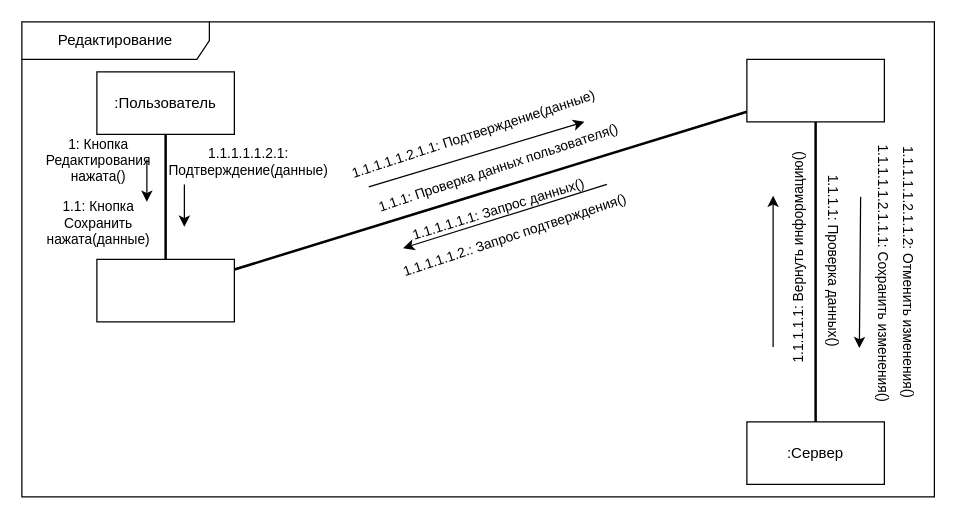
Image size: 956x519. Some labels were removed from this diagram. Here are the shapes that lost their labels. From the top down, the centre of each, then its label:
At [815,90]: ":Система".
At [165,290]: ":Интерфейс".
